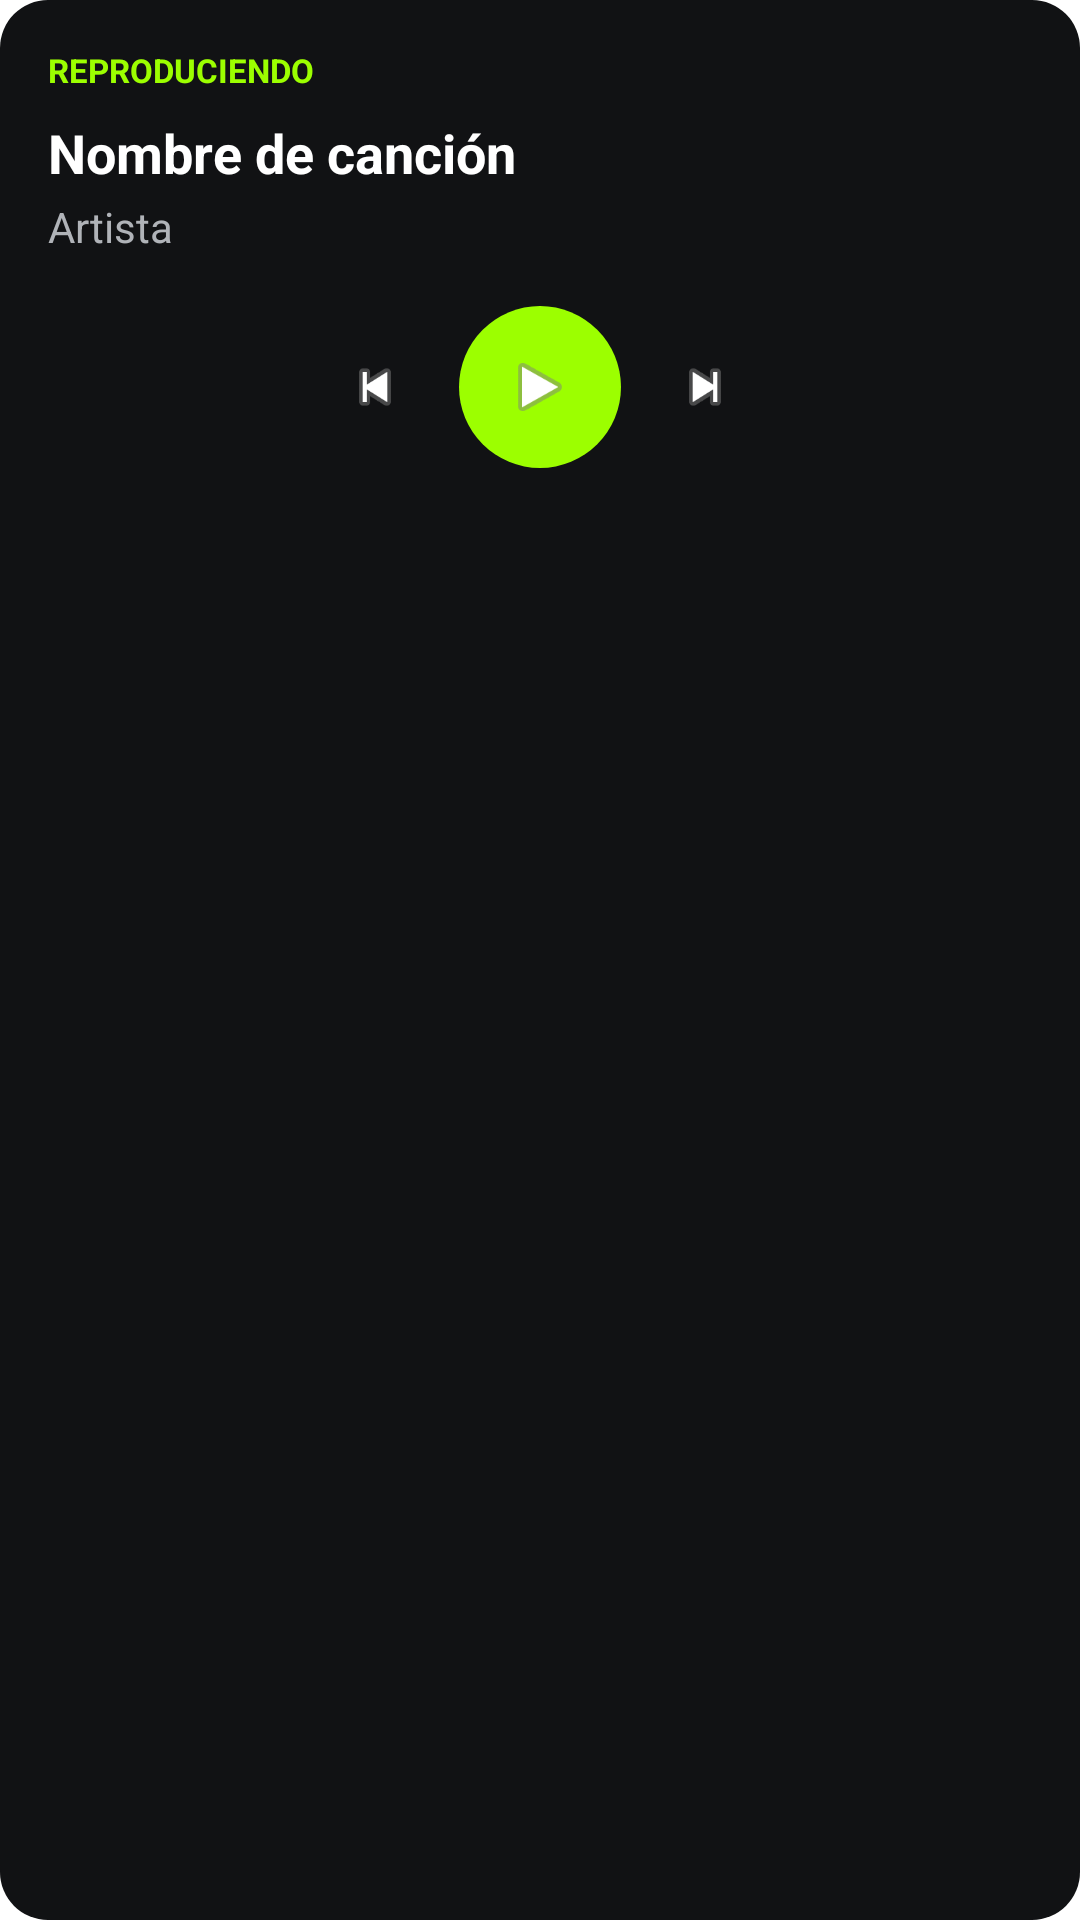

Screen size 1080*1920. Icon name, then its box in pixels as (x1, y1, x2, y2):
Anterior: (359, 368, 391, 406)
Reproducir o pausar: (459, 306, 621, 468)
Siguiente: (689, 368, 721, 406)
